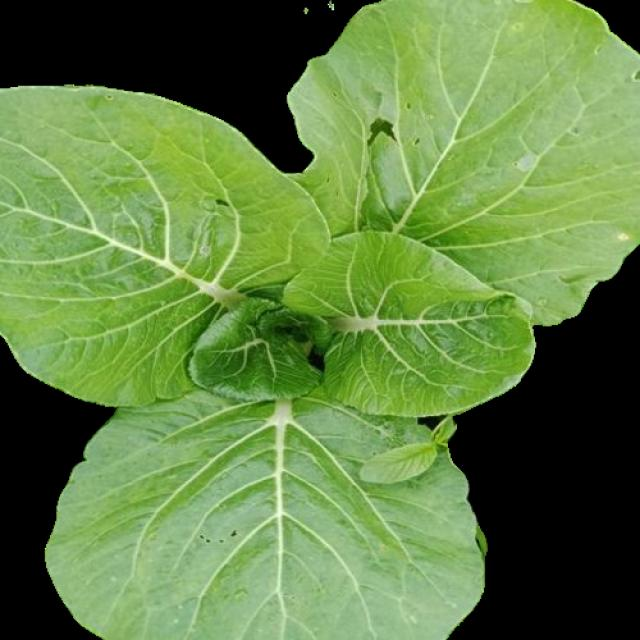mature: (4, 1, 635, 639)
unhealthy: (292, 2, 640, 324), (1, 88, 329, 406), (49, 408, 484, 640)
